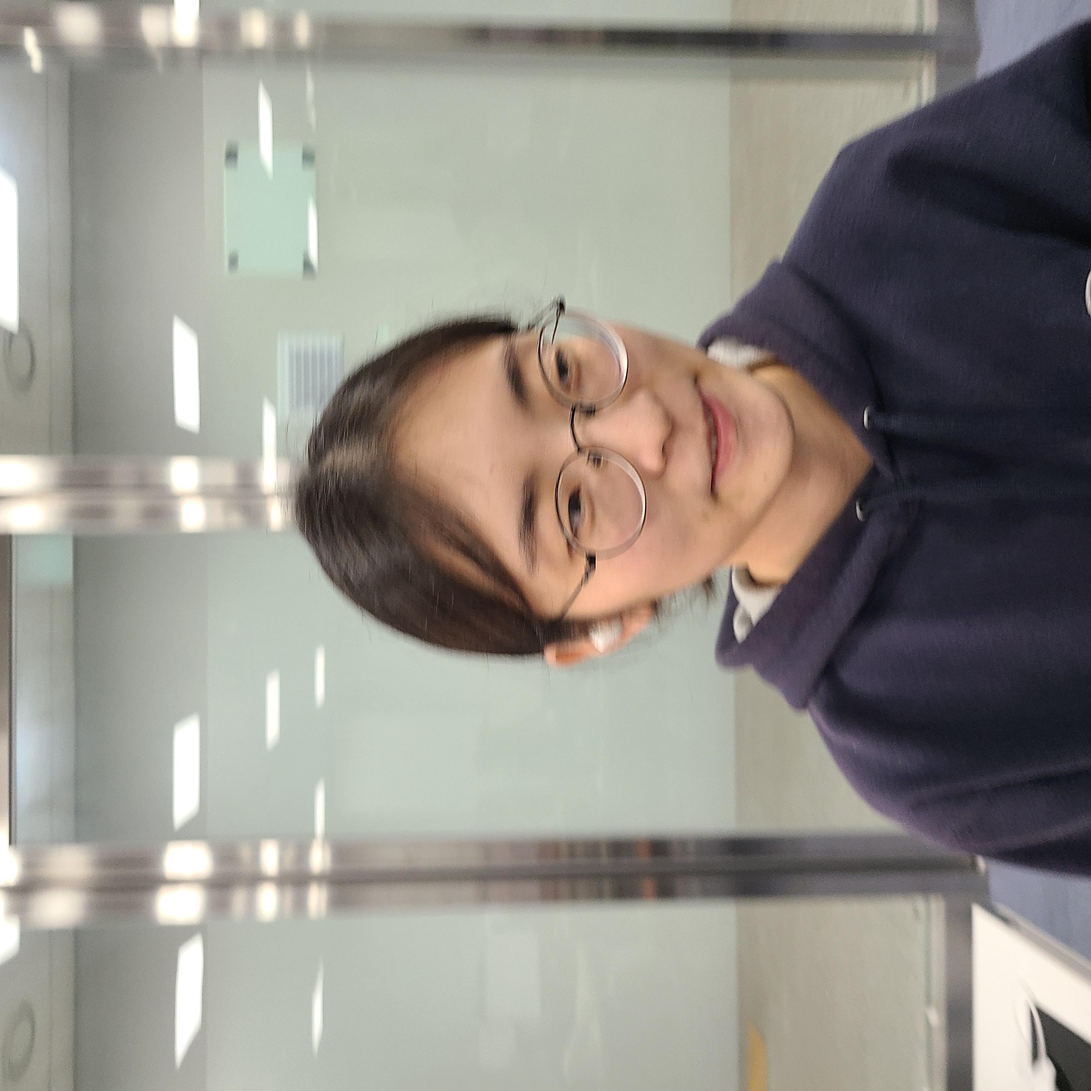earphone: (441, 587, 485, 630)
